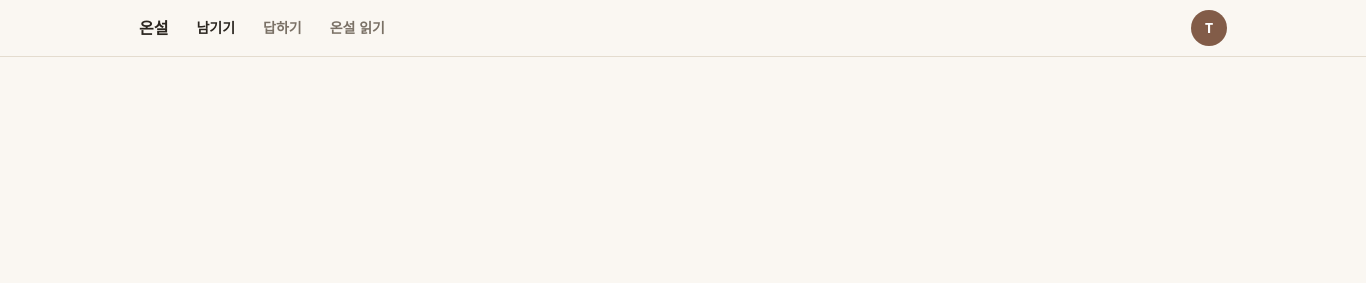
Test: ServiceNav › shows an 알림 link with an unread badge in the profile menu
The image size is (1366, 283).
Click the button named "프로필 메뉴" at (1209, 28), box [1191,10,1227,46]
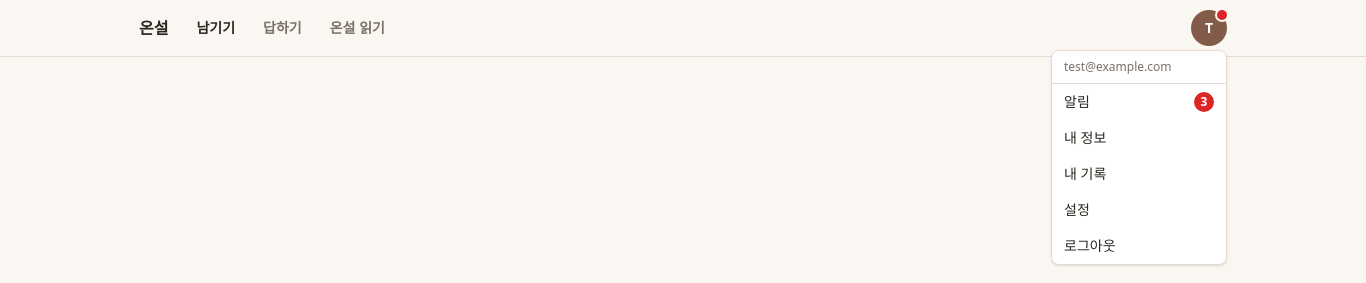
Expected: the text "3" is shown, [1194,92,1214,112]
